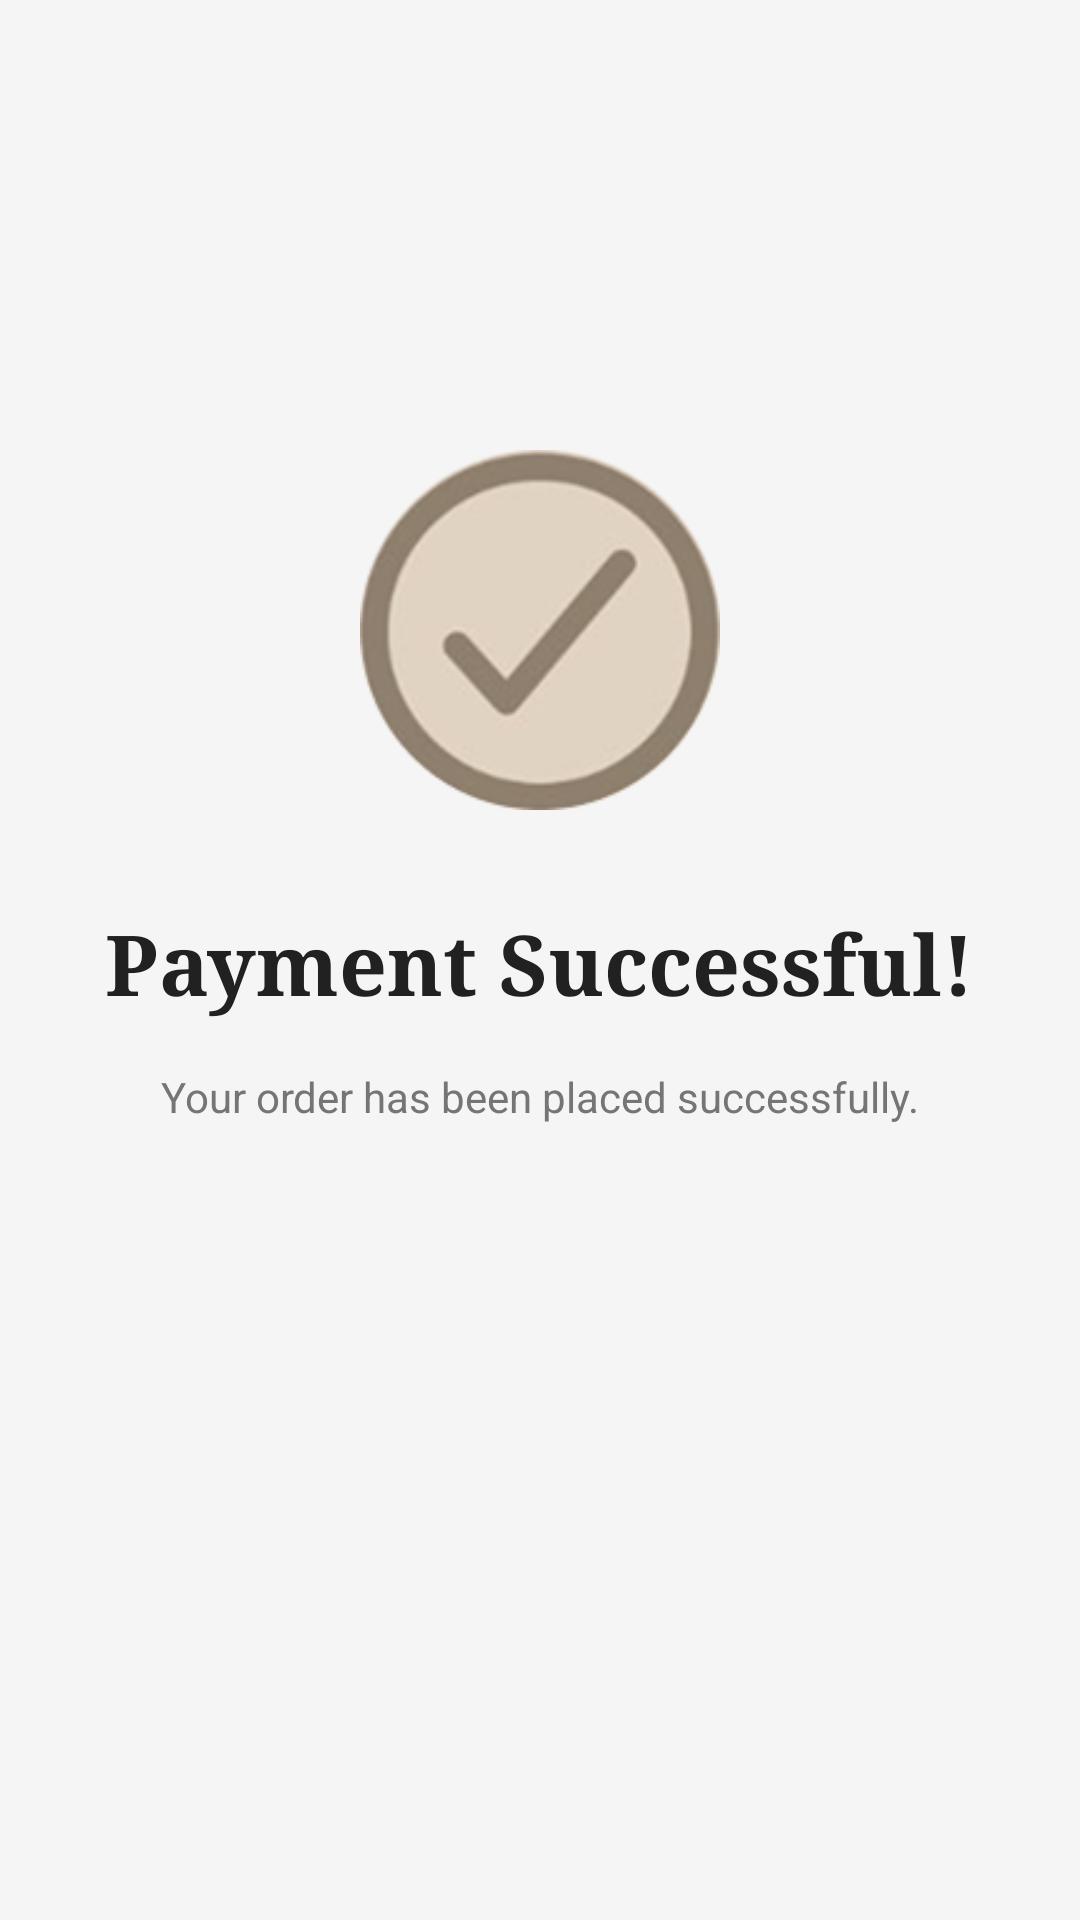

Icons on this 1080×1920 Android screen, each with its box as (x1, y1, x2, y2):
thetick: (360, 450, 720, 810)
